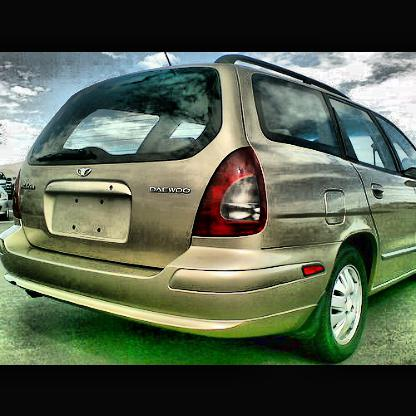Daewoo Nubira Wagon 2002: (2, 53, 416, 357)
